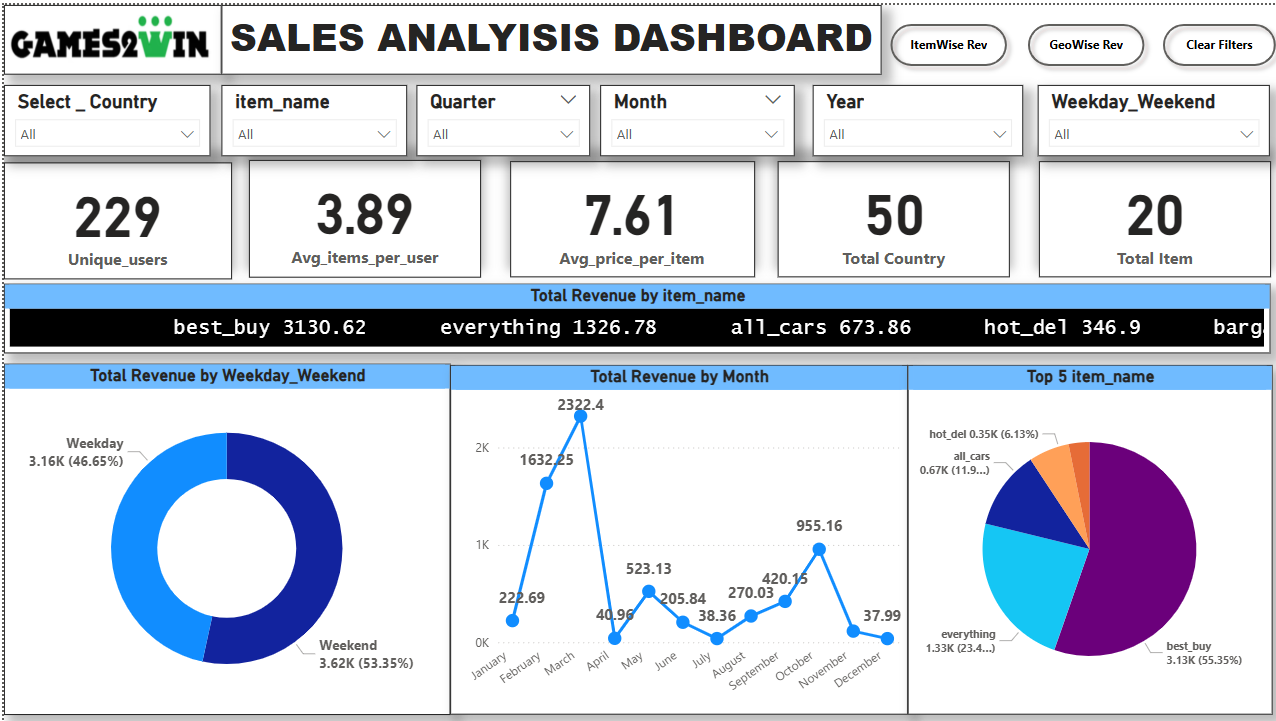

Layout of this report page (visuals, bound fields, positions):
{"tool":"powerbi","page":{"name":"Dashboard","canvas":[1280,720],"ordinal":0},"visuals":[{"type":"textbox","box":[10,0,21.3,96.7],"z":0},{"type":"image","box":[0,0,217.7,69.7],"z":1000},{"type":"textbox","box":[217.7,0,660.3,69.7],"z":2000},{"type":"card","fields":{"Values":["items_bought.Unique_users"]},"box":[0.5,157,228,116.9],"z":3000},{"type":"card","fields":{"Values":["items_bought.Avg_items_per_user"]},"box":[245.6,155.6,232.3,117.4],"z":4000},{"type":"card","fields":{"Values":["items_bought.Avg_price_per_item"]},"box":[506,156.8,244.6,116.2],"z":5000},{"type":"card","fields":{"Values":["Count(items_bought.country)"]},"box":[773.8,156.8,232.3,116.2],"z":6000},{"type":"card","fields":{"Values":["Count(items_bought.item_name)"]},"box":[1035.5,156.8,232.3,116.2],"z":7000},{"type":"slicer","fields":{"Values":["items_bought.country"]},"box":[0,79.5,206.7,70.9],"z":8000},{"type":"slicer","fields":{"Values":["items_bought.item_name"]},"box":[217.7,79.5,185.9,70.9],"z":9000},{"type":"slicer","fields":{"Values":["items_bought.dates.Variation.Date Hierarchy.Quarter"]},"box":[412.1,79.5,173.6,70.9],"z":10000},{"type":"slicer","fields":{"Values":["items_bought.dates.Variation.Date Hierarchy.Month"]},"box":[596.7,79.5,194.4,70.9],"z":11000},{"type":"slicer","fields":{"Values":["items_bought.dates.Variation.Date Hierarchy.Year"]},"box":[808.3,79.5,210.3,70.9],"z":12000},{"type":"slicer","fields":{"Values":["items_bought.Weekday_Weekend"]},"box":[1033.3,79.5,232.3,70.9],"z":13000},{"type":"ScrollingTextVisual1448795304508","fields":{"Category":["items_bought.item_name"],"Measure Absolute":["Sum(items_bought.iap_price)"]},"box":[0,278.5,1266.7,69.3],"z":14000},{"type":"donutChart","fields":{"Category":["items_bought.Weekday_Weekend"],"Y":["Sum(items_bought.iap_price)"]},"box":[0,358.3,446.3,351],"z":15000},{"type":"lineChart","fields":{"Category":["items_bought.dates.Variation.Date Hierarchy.Month"],"Y":["Sum(items_bought.iap_price)"]},"box":[446.3,359.5,457.3,349.7],"z":16000},{"type":"pieChart","title":"Top 5 item_name","fields":{"Category":["items_bought.item_name"],"Y":["Sum(items_bought.iap_price)"]},"box":[903.7,359.5,364.4,349.7],"z":17000},{"type":"actionButton","box":[1149.5,9.8,130.8,59.9],"z":18000},{"type":"actionButton","box":[878,9.8,134.5,59.9],"z":19000},{"type":"actionButton","box":[1015,9.8,134.5,59.9],"z":20000}]}

Visuals, with their boxes in screenshot pixels (x1, y1, x2, y2), scaled from the page's 1280x720 canvas onto the 1276x721 screenshot:
textbox: <box>10,0,31,97</box>
image: <box>0,0,217,70</box>
textbox: <box>217,0,875,70</box>
card - items_bought.Unique_users: <box>0,157,228,274</box>
card - items_bought.Avg_items_per_user: <box>245,156,476,273</box>
card - items_bought.Avg_price_per_item: <box>504,157,748,273</box>
card - Count(items_bought.country): <box>771,157,1003,273</box>
card - Count(items_bought.item_name): <box>1032,157,1264,273</box>
slicer - items_bought.country: <box>0,80,206,151</box>
slicer - items_bought.item_name: <box>217,80,402,151</box>
slicer - items_bought.dates.Variation.Date Hierarchy.Quarter: <box>411,80,584,151</box>
slicer - items_bought.dates.Variation.Date Hierarchy.Month: <box>595,80,789,151</box>
slicer - items_bought.dates.Variation.Date Hierarchy.Year: <box>806,80,1015,151</box>
slicer - items_bought.Weekday_Weekend: <box>1030,80,1262,151</box>
ScrollingTextVisual1448795304508 - items_bought.item_name x Sum(items_bought.iap_price): <box>0,279,1263,348</box>
donutChart - items_bought.Weekday_Weekend x Sum(items_bought.iap_price): <box>0,359,445,710</box>
lineChart - items_bought.dates.Variation.Date Hierarchy.Month x Sum(items_bought.iap_price): <box>445,360,901,710</box>
"Top 5 item_name" pieChart: <box>901,360,1264,710</box>
actionButton: <box>1146,10,1275,70</box>
actionButton: <box>875,10,1009,70</box>
actionButton: <box>1012,10,1146,70</box>
